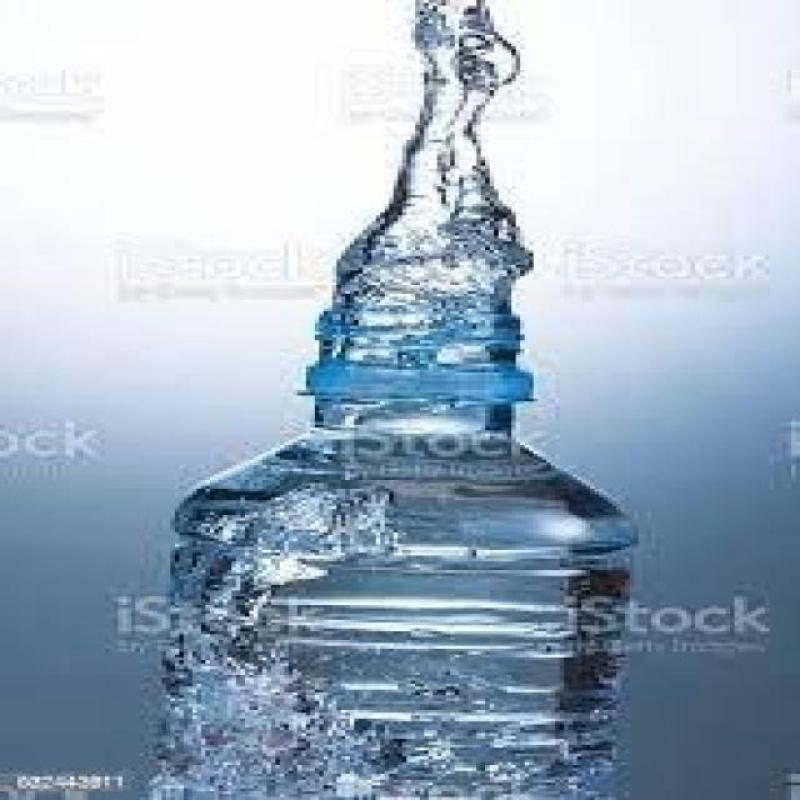botella: (161, 306, 642, 800)
